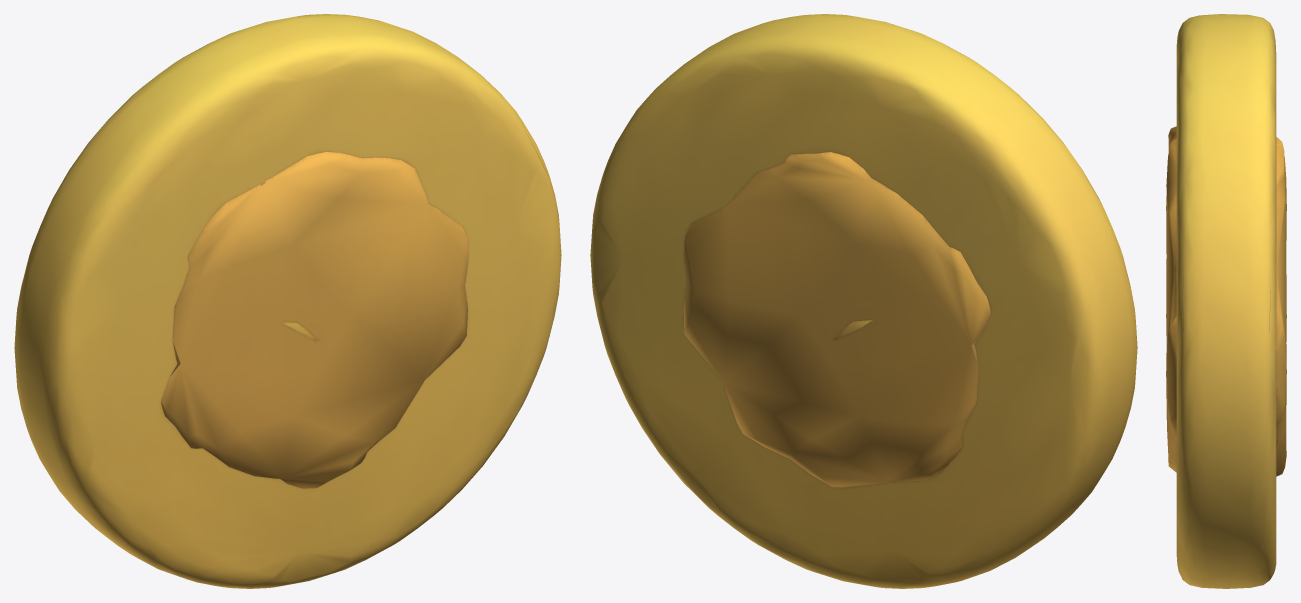
File: G03a_Coin.fbx
3 views of the same model, side by side, from view 1: azimuth 30°, elevation 25°; view 2: azimuth 150°, elevation 25°; view 3: azimuth 270°, elevation 25° (orthographic). The views are drawn at different scales.
Parts seen in each view (by area): view 1: G03a_Coin; view 2: G03a_Coin; view 3: G03a_Coin.
Part boxes in pixels (x1,y1,x2,y2): G03a_Coin: [14, 14, 561, 588]; G03a_Coin: [590, 14, 1137, 588]; G03a_Coin: [1166, 14, 1286, 588].
Bounding box in the file's own units: 0.6 × 0.6 × 0.126.
